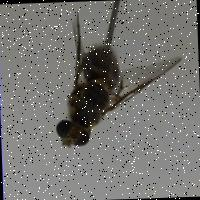Oriental-fruit-fly: (46, 8, 188, 152)
